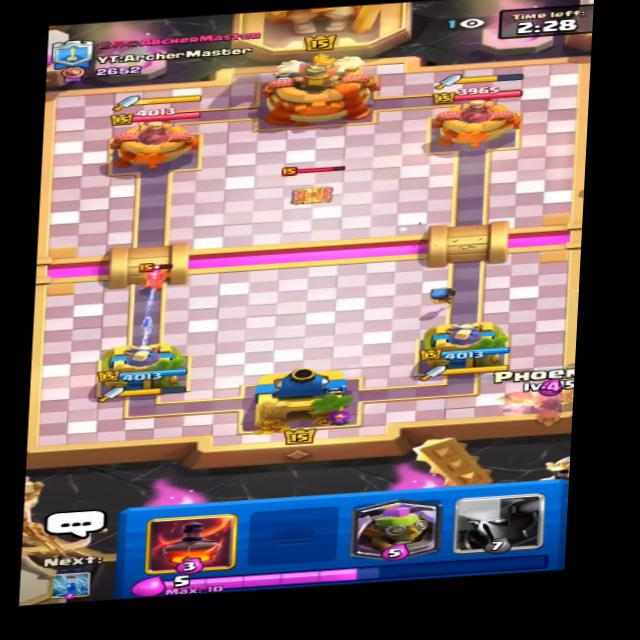archer: (134, 261, 180, 289)
tesla-closed: (271, 156, 356, 208)
